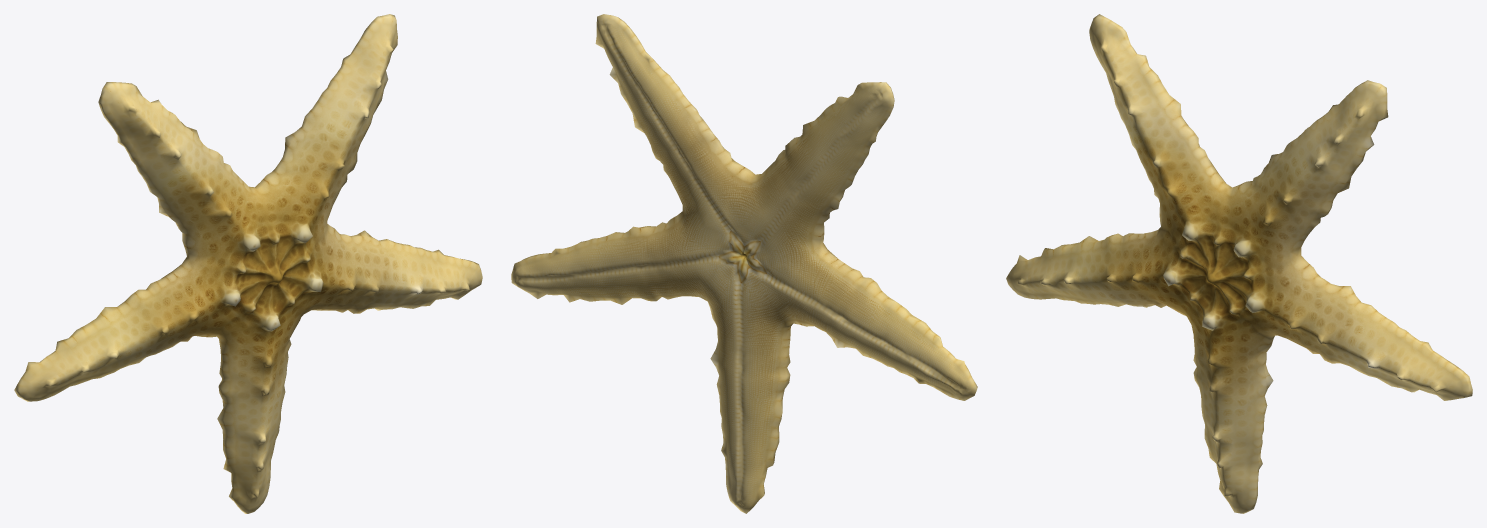
The model's file is Sea_Star.obj.
3 views of the same model, side by side, from view 1: azimuth 30°, elevation 25°; view 2: azimuth 150°, elevation 25°; view 3: azimuth 330°, elevation 25° (orthographic).
Parts seen in each view (by area): view 1: see_star_pivot; view 2: see_star_pivot; view 3: see_star_pivot.
Boxes of the visible parts, box(x1,y1,x2,y2) form: see_star_pivot: box(14, 14, 482, 513); see_star_pivot: box(511, 14, 977, 513); see_star_pivot: box(1006, 14, 1472, 513).
Size of the model in its own units: 25.61 by 24.39 by 3.33.
1 material, 1 textured.
